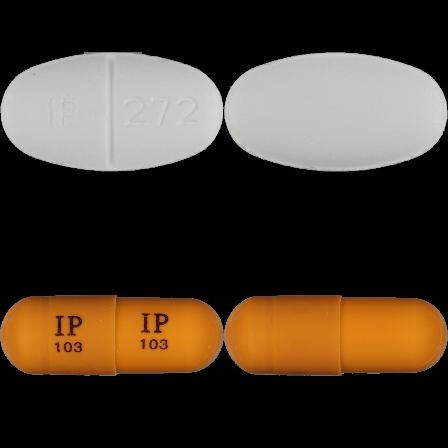68387-385: (0, 0, 224, 224)
